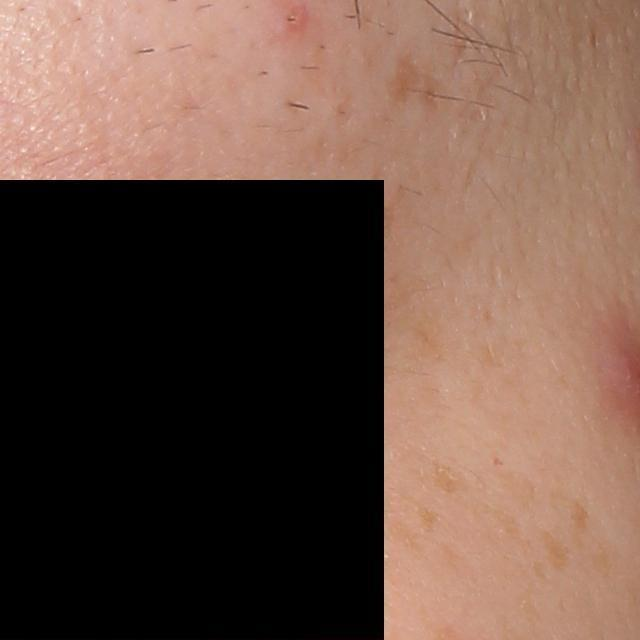melasma: (470, 500, 536, 560), (495, 468, 545, 524), (401, 488, 445, 536), (426, 457, 470, 499), (536, 523, 571, 574), (570, 496, 590, 548)
papule: (281, 0, 309, 35)
